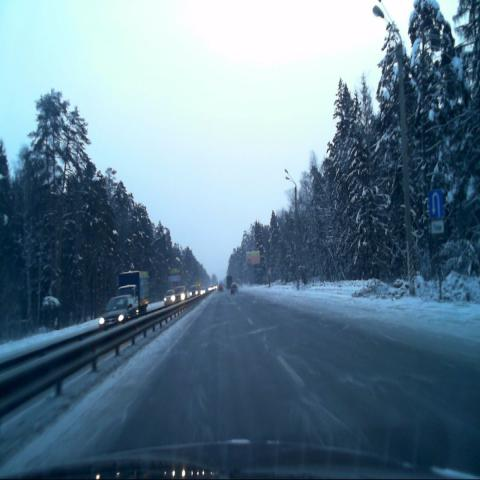6_3_1: (429, 189, 442, 219)
